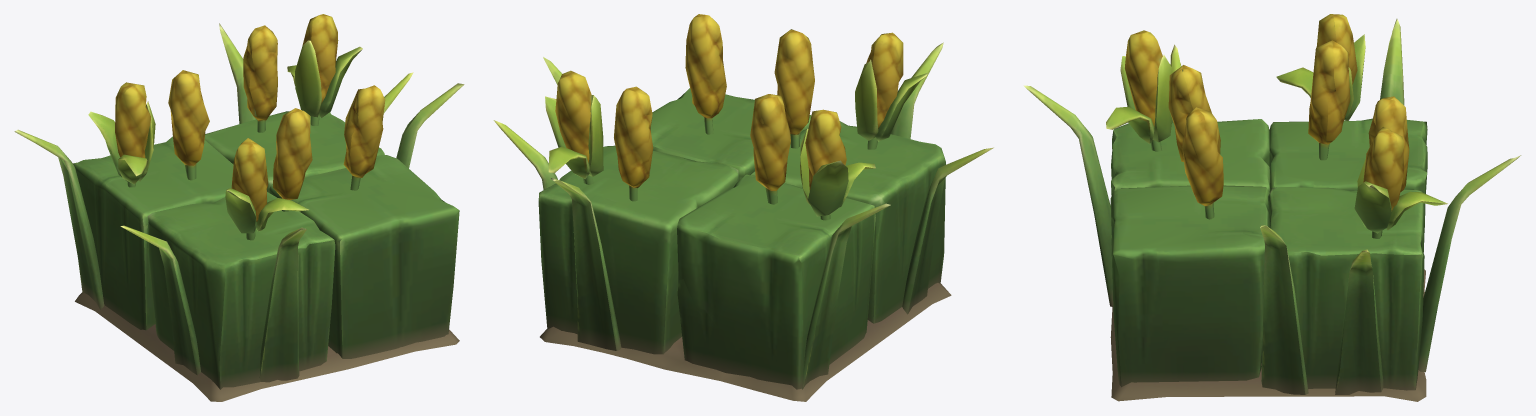
File: SM_Crop_Corn_03.glb
The picture shows the model from 3 angles, left to right: view 1: azimuth 30°, elevation 25°; view 2: azimuth 150°, elevation 25°; view 3: azimuth 270°, elevation 25°; orthographic projection. The views are drawn at different scales.
Parts seen in each view (by area): view 1: SM_Crop_Corn_03; view 2: SM_Crop_Corn_03; view 3: SM_Crop_Corn_03.
Part boxes in pixels (x1=…): SM_Crop_Corn_03: x1=14, y1=14, x2=464, y2=401; SM_Crop_Corn_03: x1=493, y1=14, x2=993, y2=401; SM_Crop_Corn_03: x1=1023, y1=14, x2=1521, y2=401.
Size of the model in its own units: 6.13 by 3.64 by 6.22.
1 material, 1 textured.
